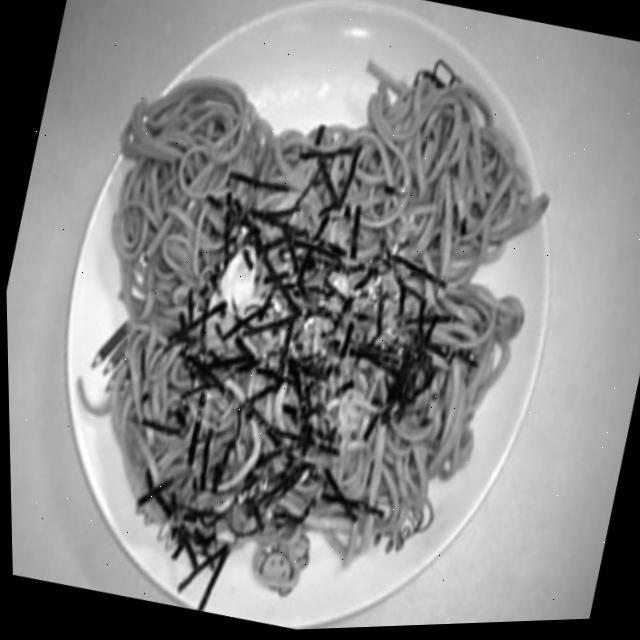面条主食: (21, 7, 565, 639)
